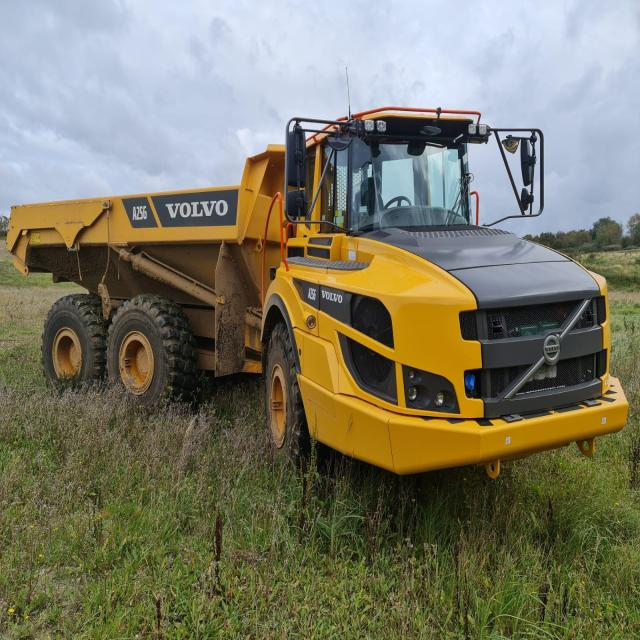dump_truck: (6, 99, 628, 516)
